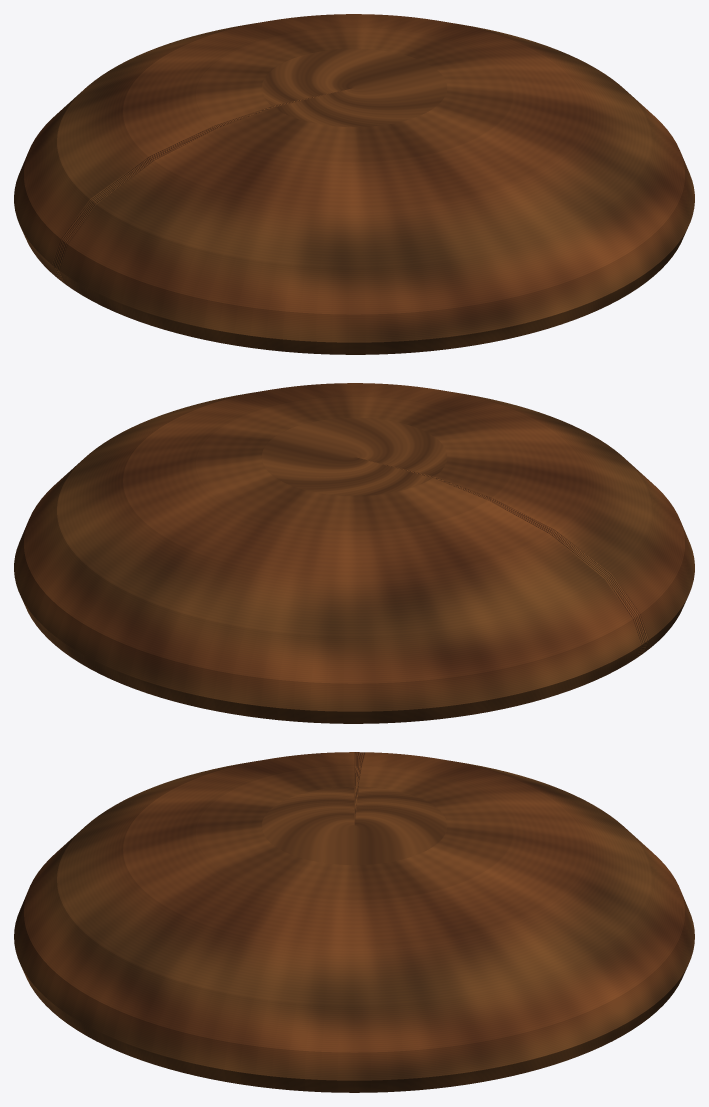
Rendered from wooden_bowl.glb.
3 views of the same model, one above another, from view 1: azimuth 30°, elevation 25°; view 2: azimuth 150°, elevation 25°; view 3: azimuth 270°, elevation 25° (orthographic).
Visible parts, largest first — view 1: world; view 2: world; view 3: world.
Part boxes in pixels (x1,y1,x2,y2): world: [14, 14, 694, 354]; world: [14, 383, 694, 723]; world: [14, 752, 694, 1092].
Size of the model in its own units: 1.03 by 0.22 by 1.03.
1 material, 1 textured.
